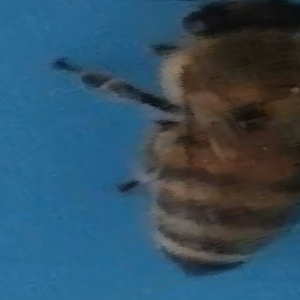bee: (48, 1, 300, 283)
